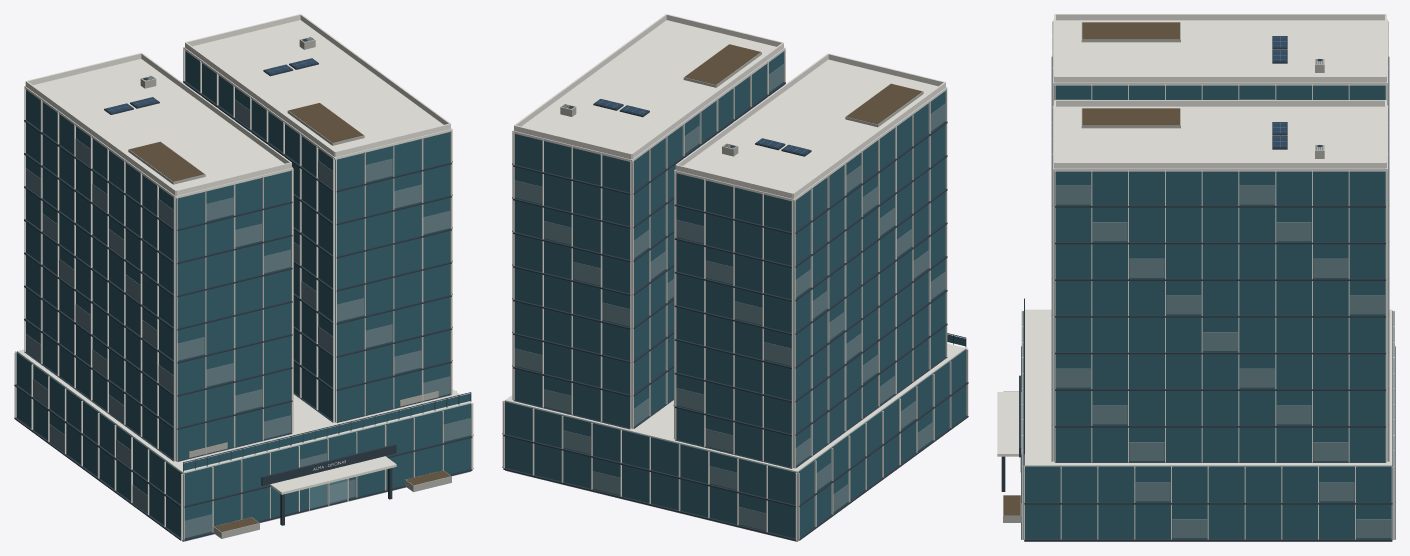
The model's file is Tower_2.fbx.
The picture shows the model from 3 angles, left to right: view 1: azimuth 30°, elevation 25°; view 2: azimuth 150°, elevation 25°; view 3: azimuth 270°, elevation 25°; orthographic projection. The views are drawn at different scales.
Parts seen in each view (by area): view 1: Tower_2.021; view 2: Tower_2.021; view 3: Tower_2.021.
Part boxes in pixels (x1=…): Tower_2.021: x1=14, y1=14, x2=473, y2=541; Tower_2.021: x1=502, y1=14, x2=968, y2=541; Tower_2.021: x1=997, y1=14, x2=1395, y2=541.
Bounding box in the file's own units: 30.55 × 34.07 × 32.48.
